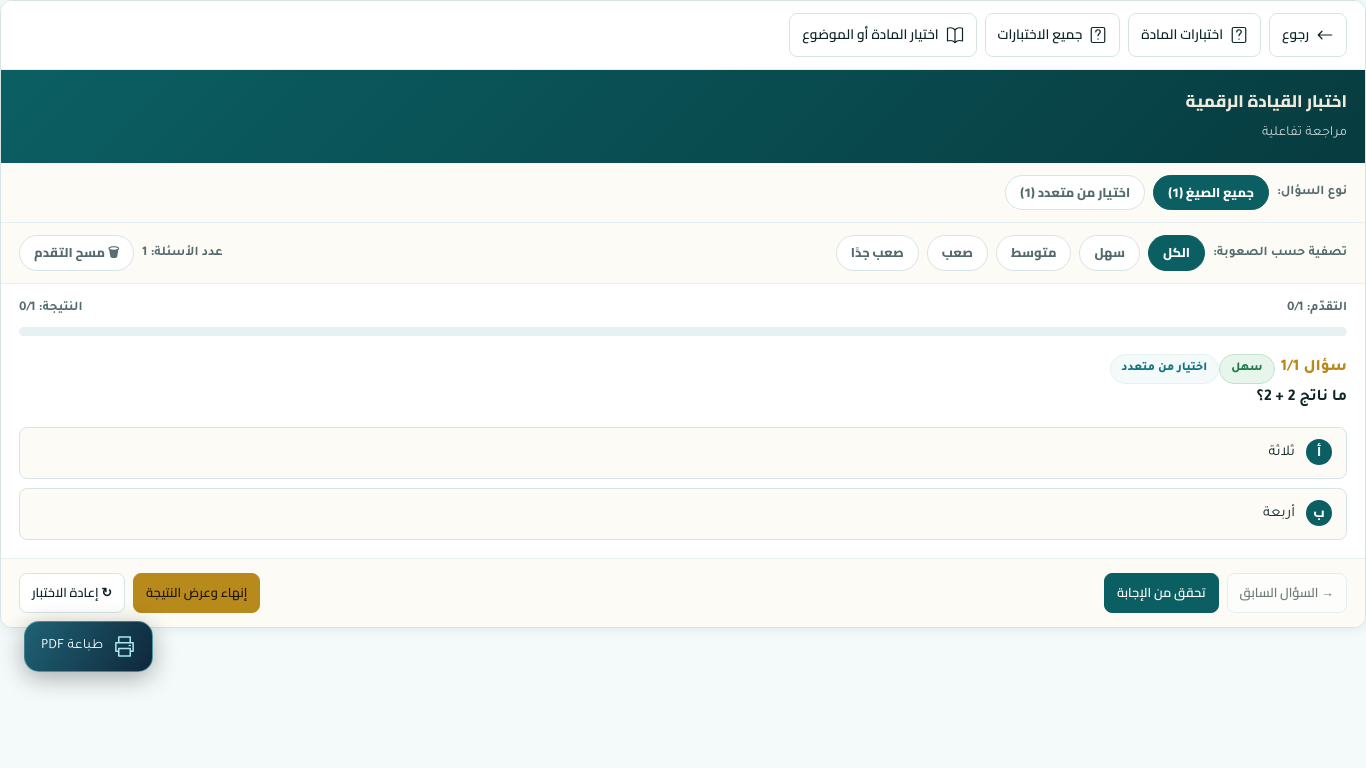
it: Finquiz interaction › requires an answer and prevents answer-key requests from blank questions
Click the button "تحقق من الإجابة" at (1161, 593), box [1104,573,1219,613]
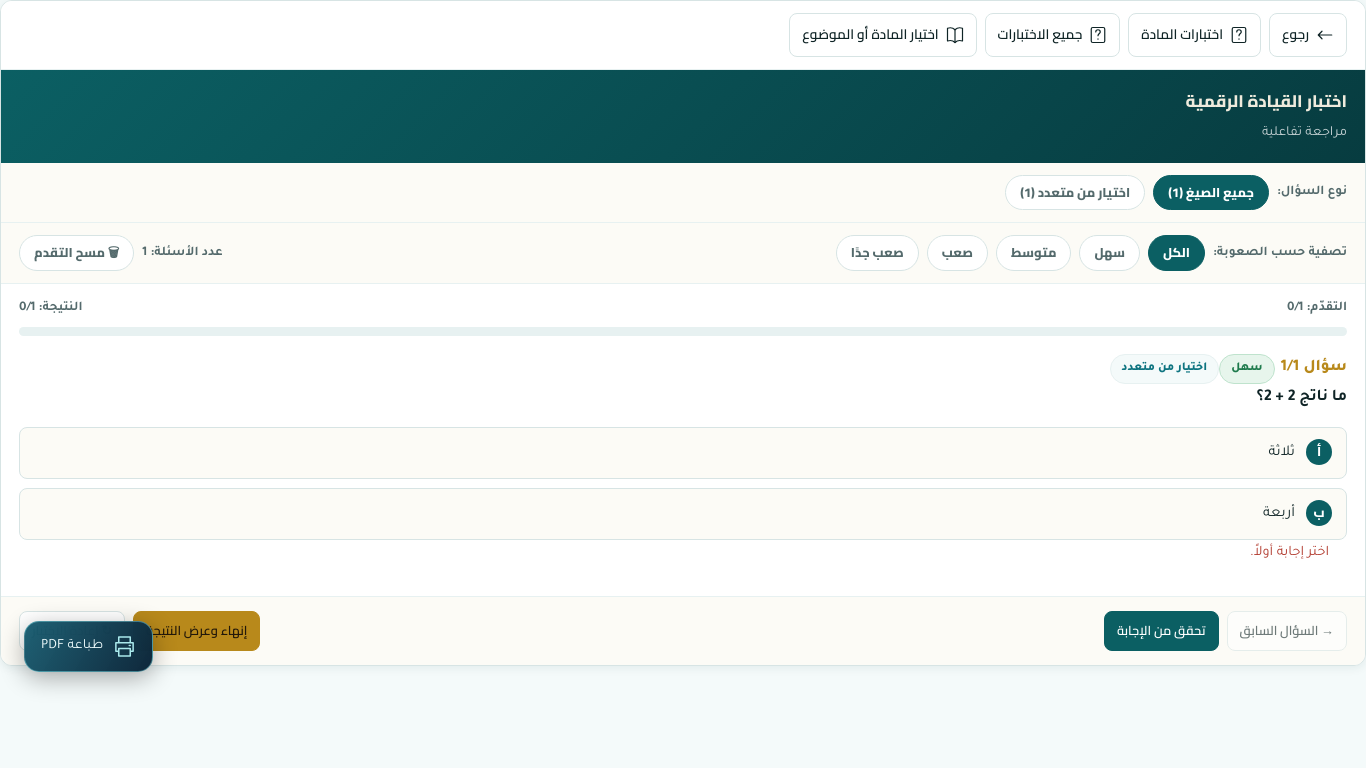
Check: the message "اختر إجابة أولاً." is shown, box [1250,546,1329,560]
